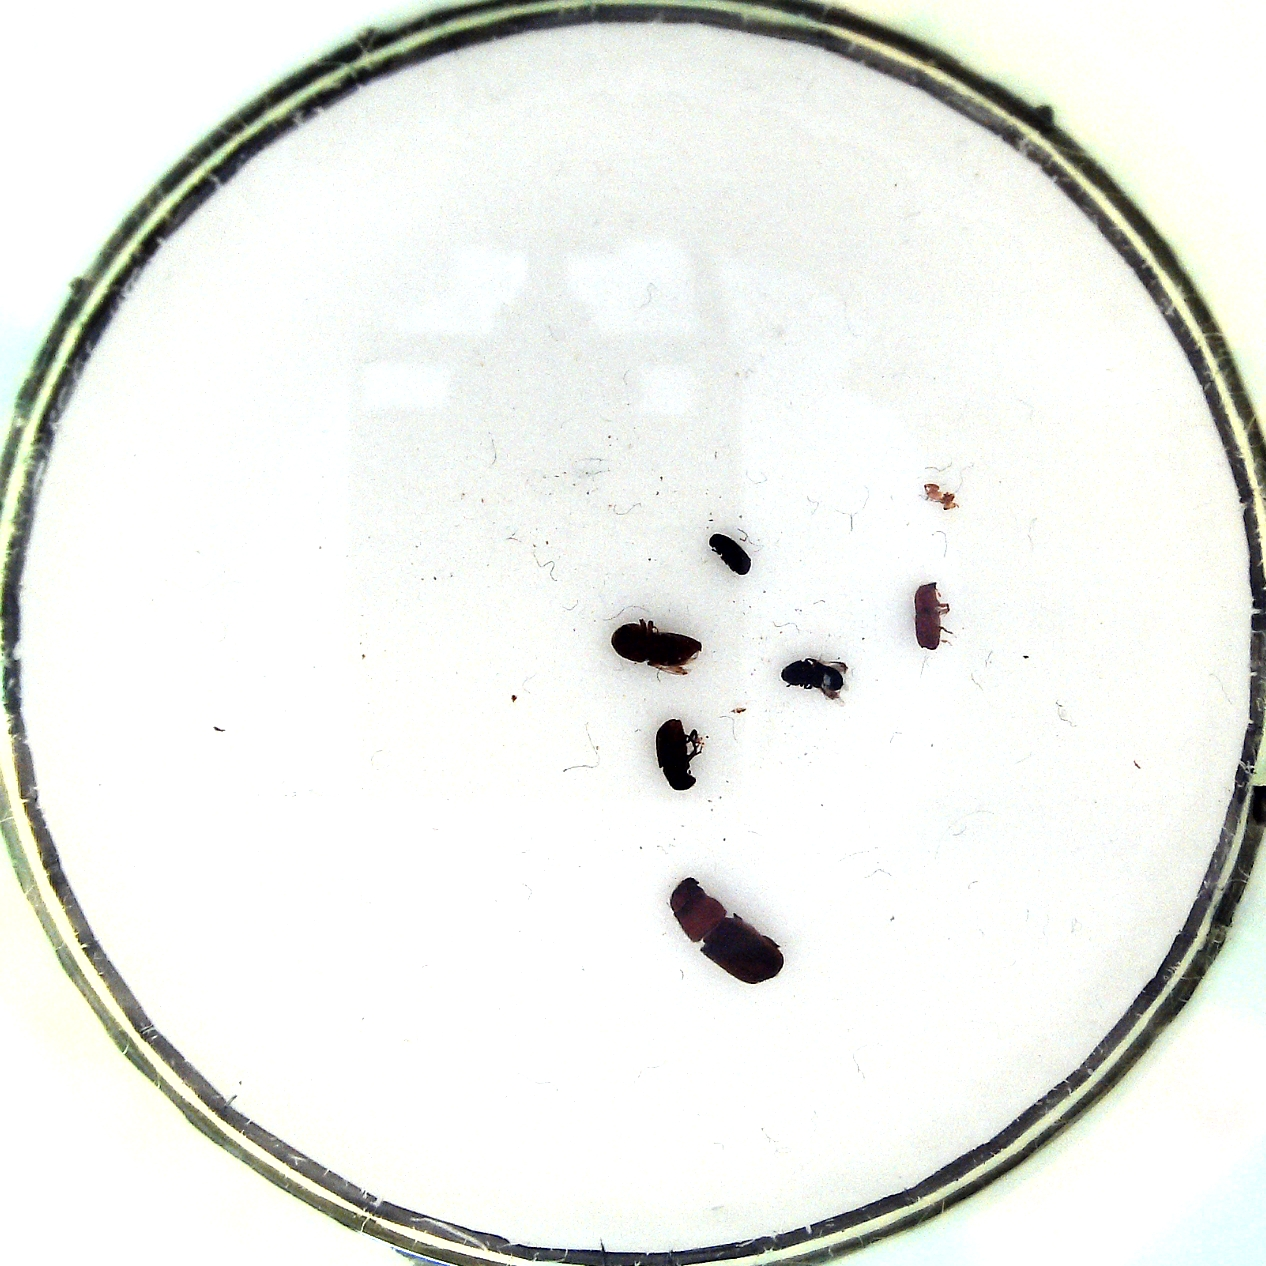Leconte: (667, 865, 788, 987)
Linnaeus: (606, 612, 706, 676)
acuminatus: (909, 583, 956, 652)
armandi: (647, 715, 707, 801)
coleoptera: (781, 653, 852, 710), (707, 530, 755, 579)
